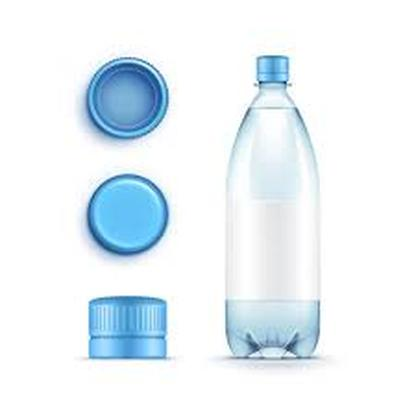plastic bottle: (222, 56, 321, 357)
